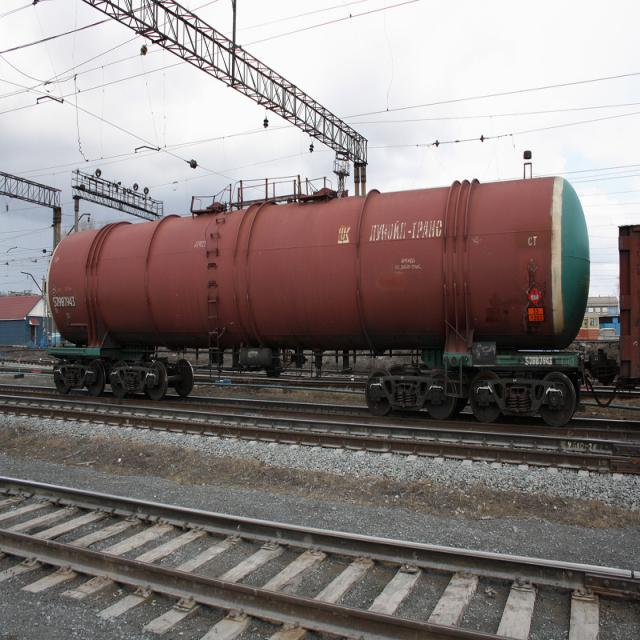boxcar: (34, 155, 596, 439)
